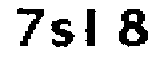7: (11, 5, 44, 49)
8: (115, 4, 150, 50)
I: (82, 3, 103, 56)
s: (50, 15, 78, 51)
